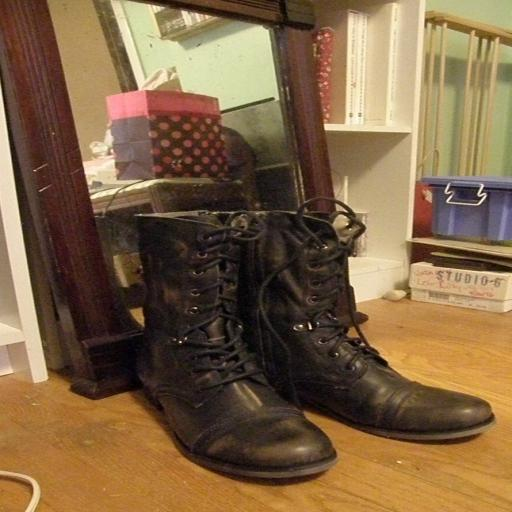boots: (240, 200, 494, 440), (137, 213, 336, 478)
